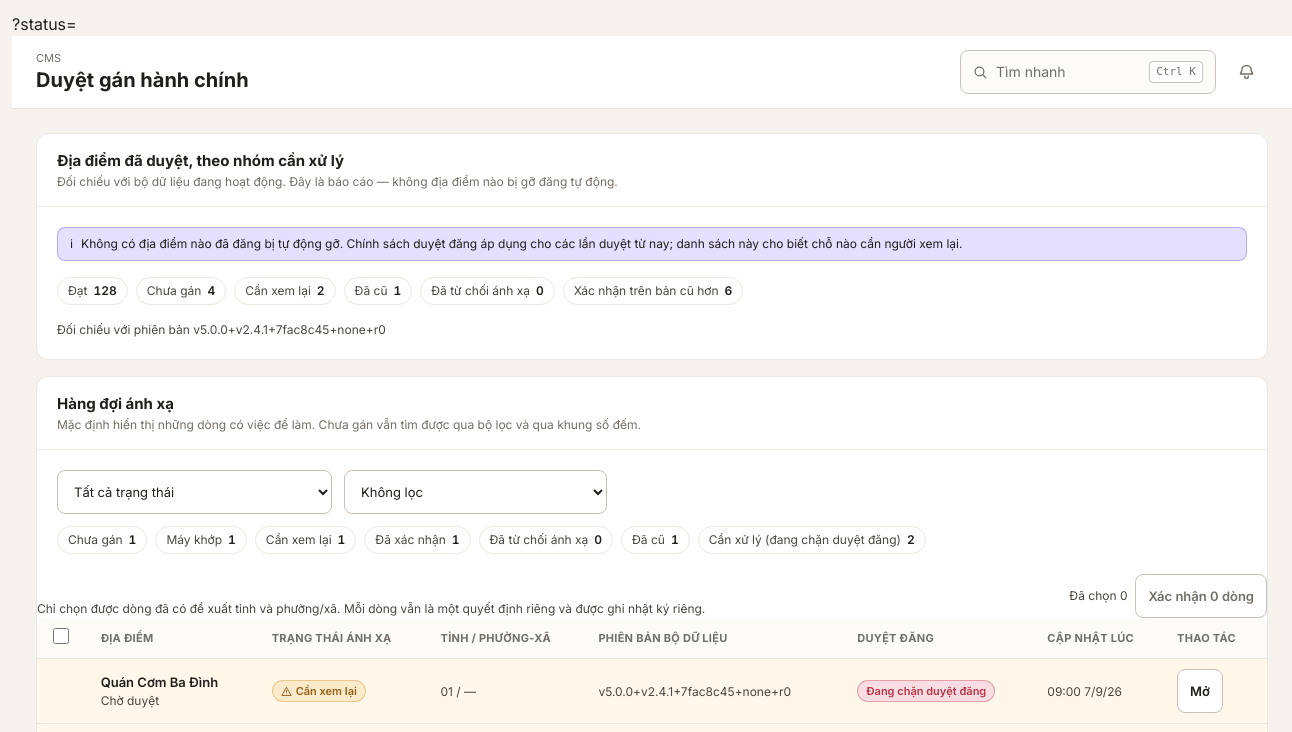
Test: the queue › filters to the rows blocking publication, and keeps it in the URL
This screenshot has width=1292, height=732.
Select "Chỉ dòng đang chặn duyệt đăng" in the dropdown named "Duyệt đăng": (476, 492) [344,470,607,514]
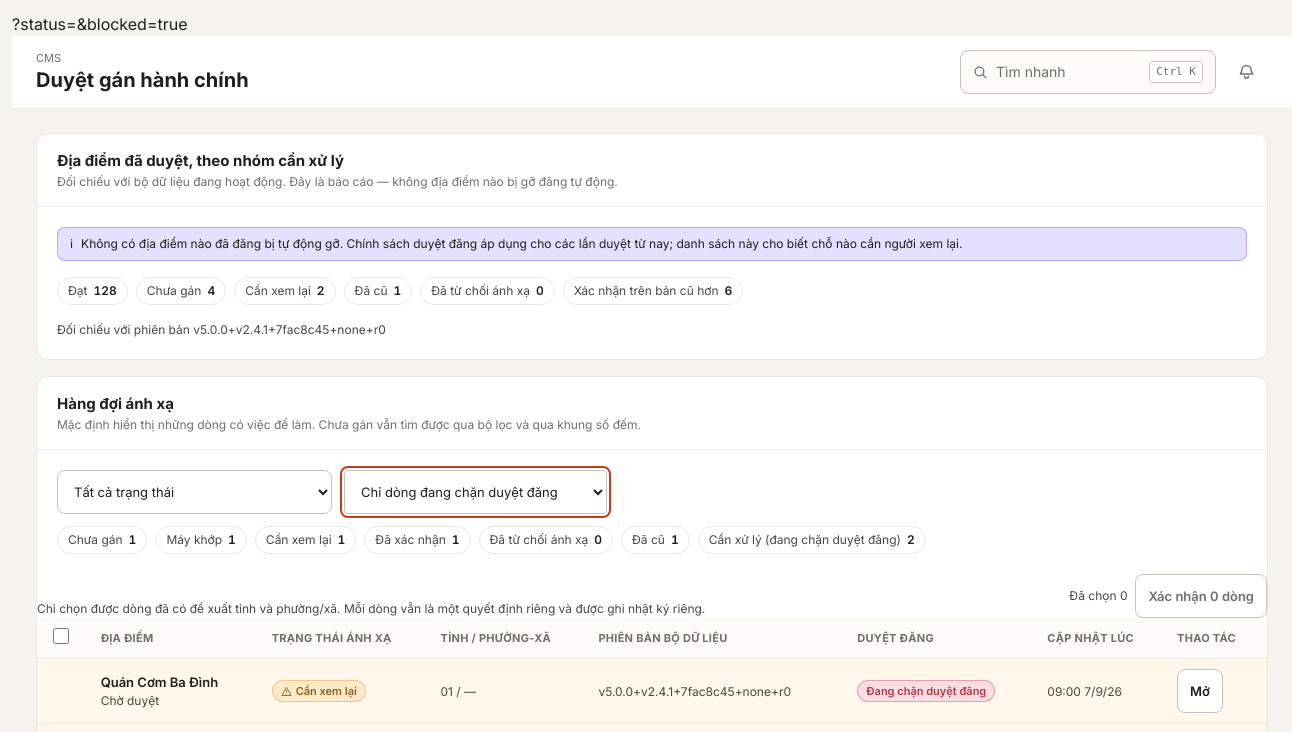
Now the text with test id "search" shows "blocked=true", box [12,14,188,34]
